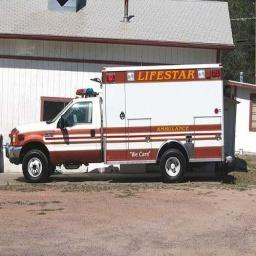ambulance: (6, 64, 225, 181)
